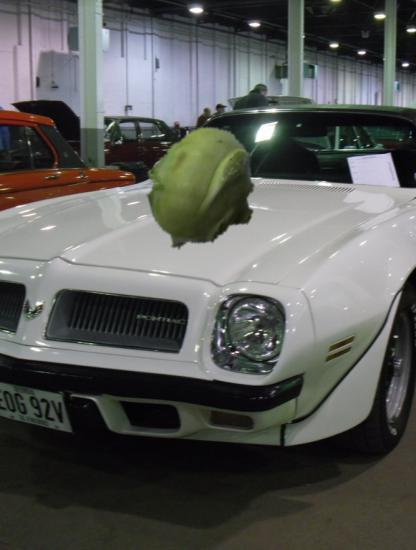Kohlrabi: (135, 123, 270, 258)
